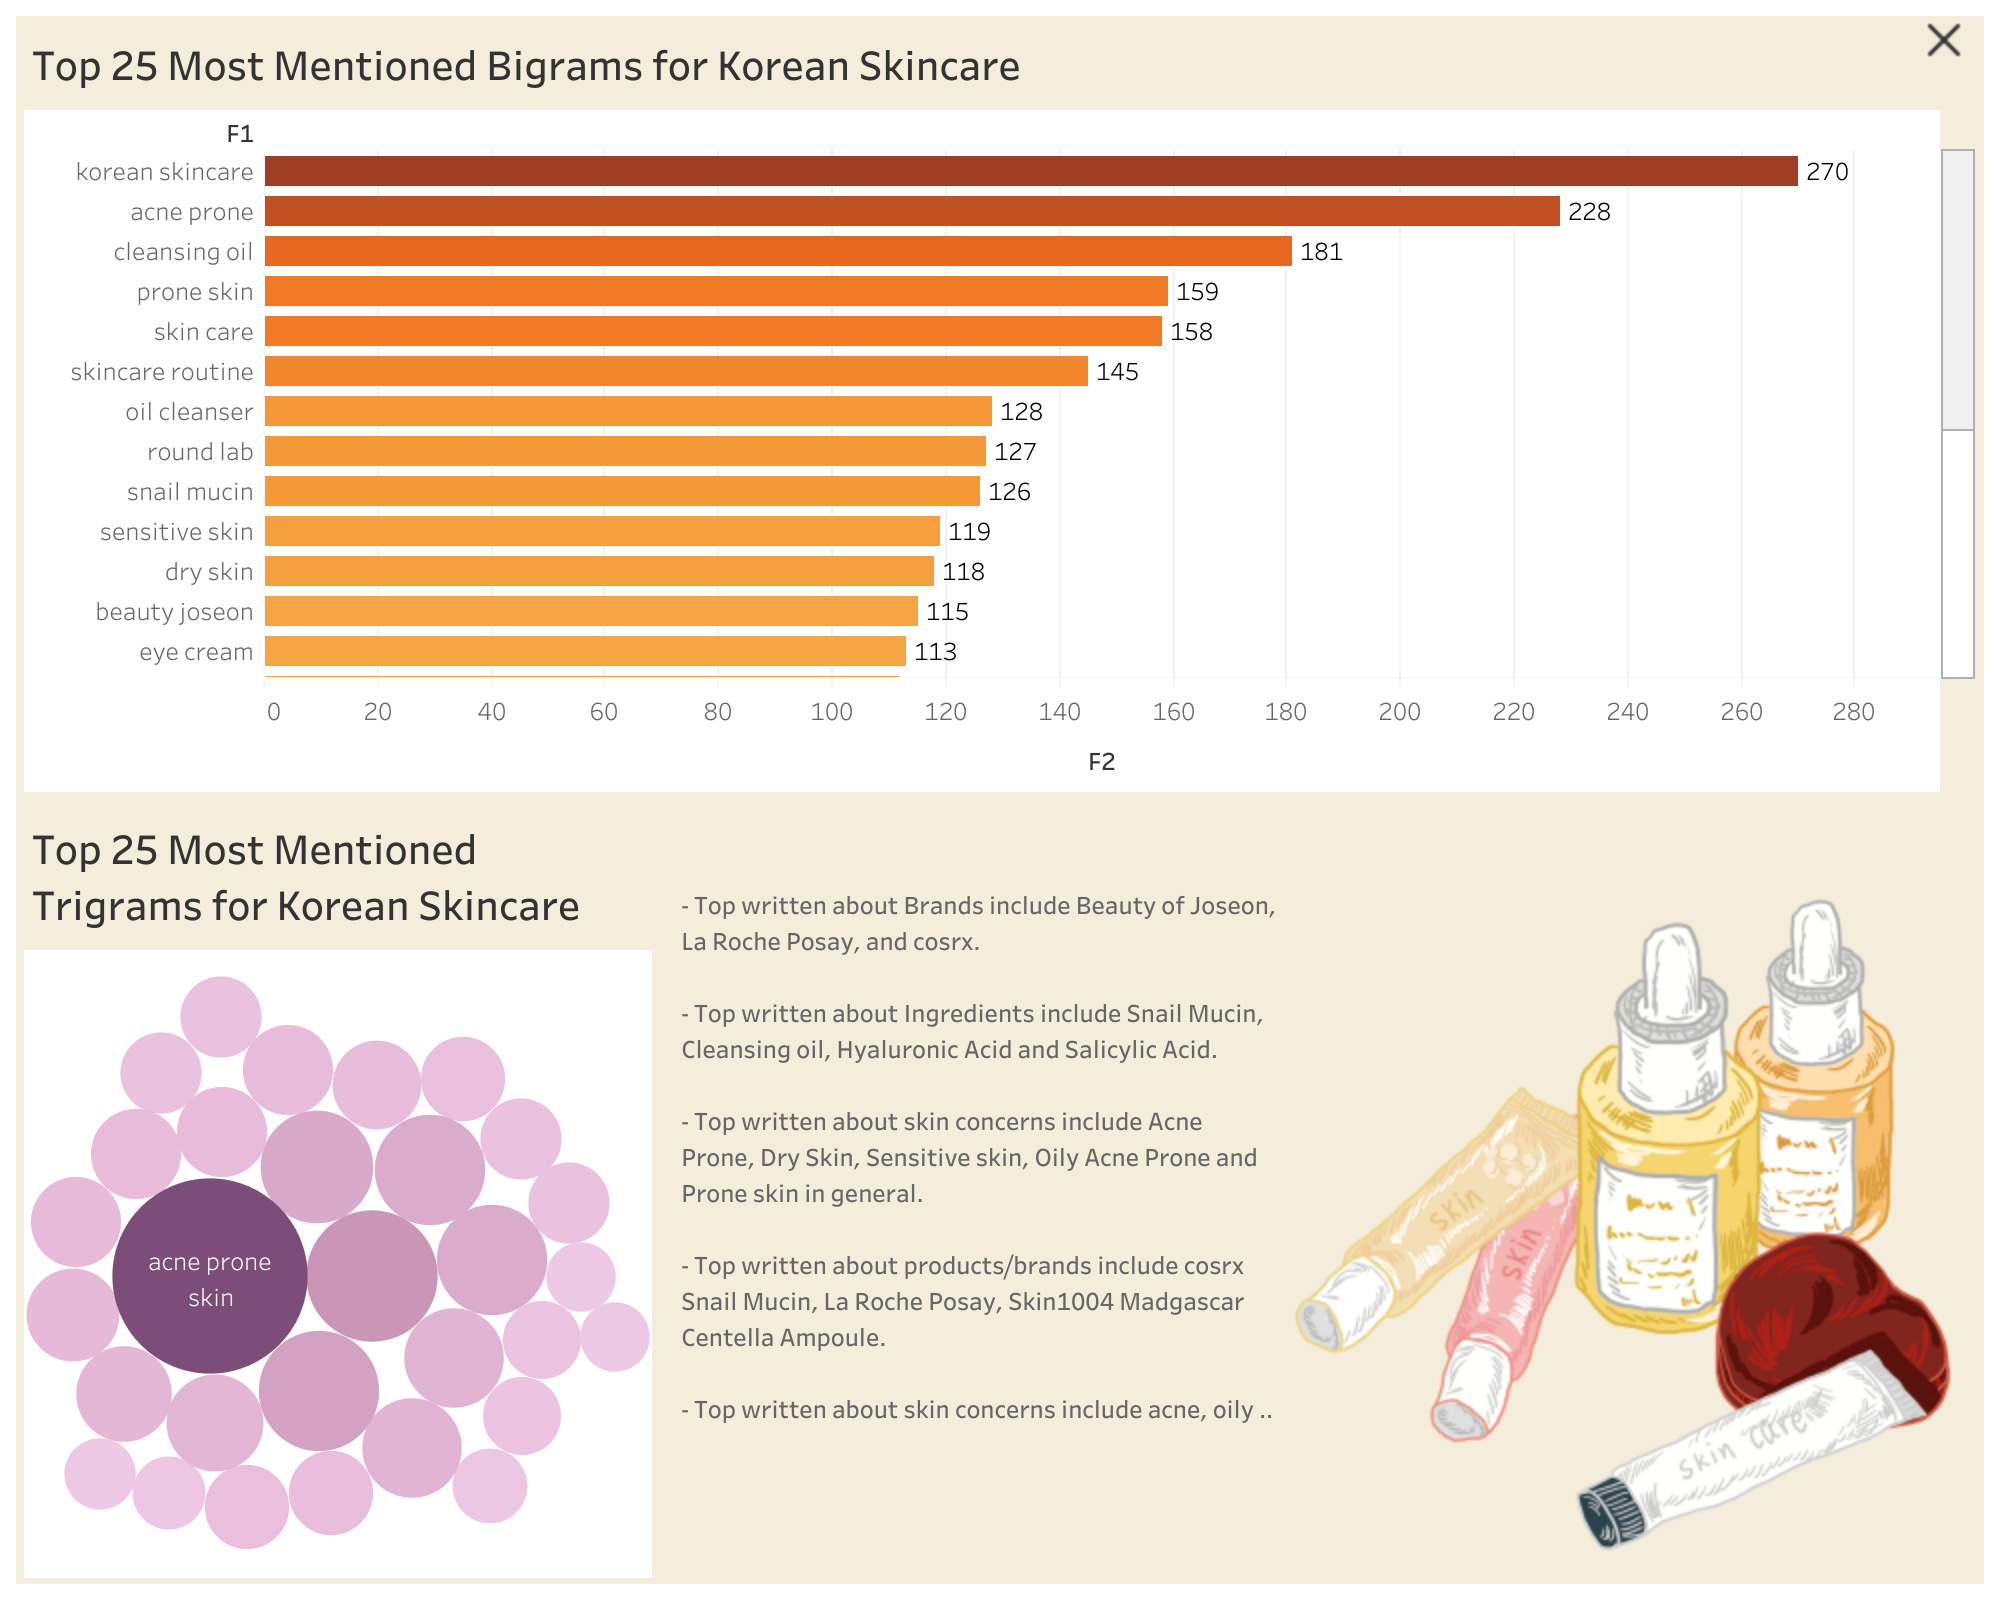

The page's visual inventory and layout, read from the dashboard file:
{"tool":"tableau","page":{"name":"Dashboard 1","canvas":[1000,800],"ordinal":0},"visuals":[{"type":"worksheet","title":"Sheet 1","mark":"Automatic","rows":["F1"],"cols":["F2"],"box":[8,8,984,392]},{"type":"dashboard-object","box":[960,8,24,24]},{"type":"worksheet","title":"Sheet 2","mark":"Circle","box":[8,400,984,392]},{"type":"text","box":[338,434,302,287]},{"type":"image","param":"Image/—Pngtree—skin care cosmetics illustration_4578175.png","box":[642,447,338,338]}]}

Visuals, with their boxes in screenshot pixels (x1, y1, x2, y2), scaled from the page's 1000x800 canvas onto the 1998x1598 screenshot:
"Sheet 1" worksheet: region(16, 16, 1982, 799)
dashboard-object: region(1918, 16, 1966, 64)
"Sheet 2" worksheet (Circle marks): region(16, 799, 1982, 1582)
text: region(675, 867, 1279, 1440)
image: region(1283, 893, 1958, 1568)
